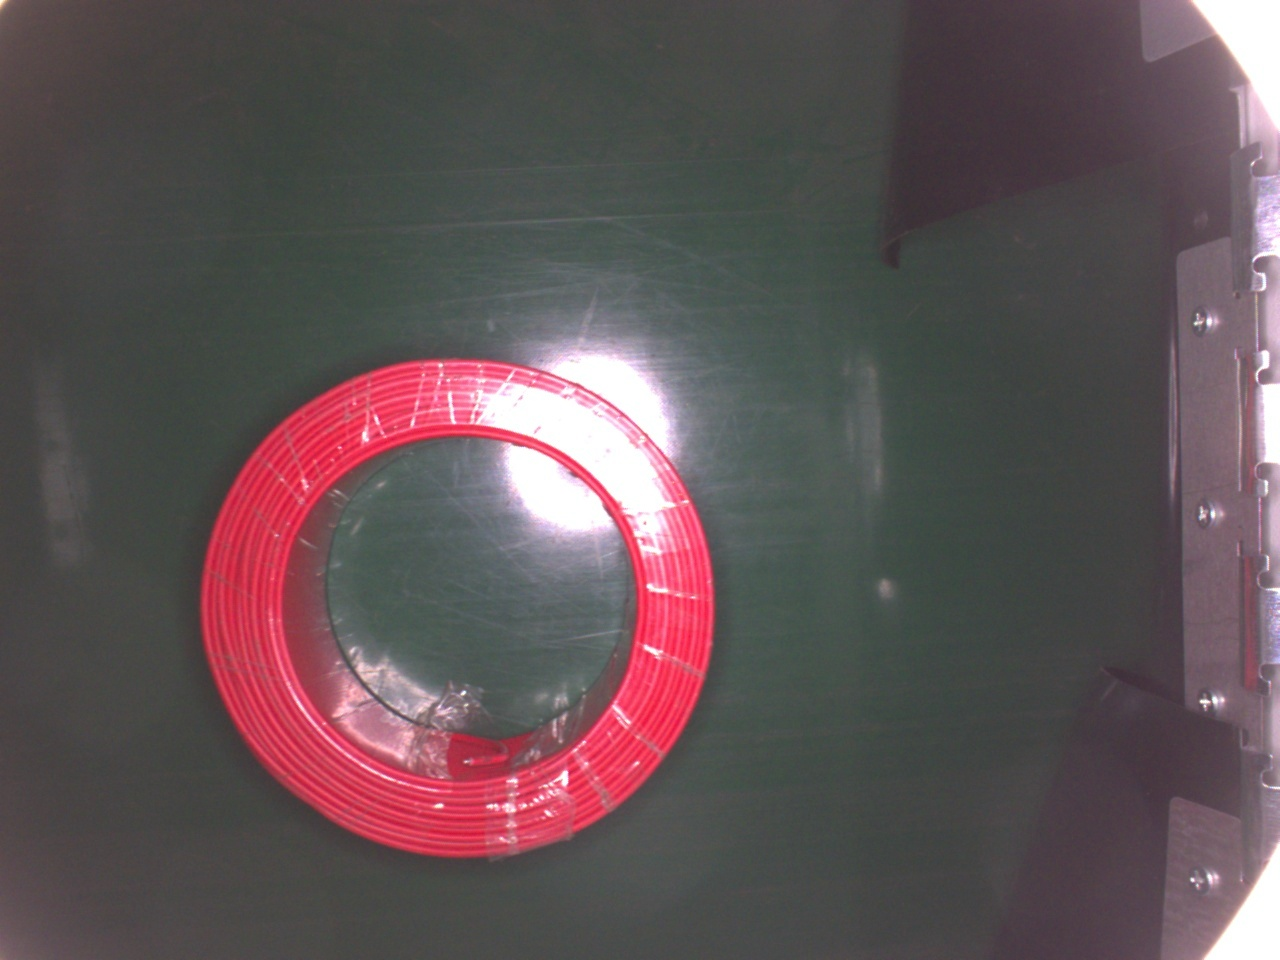red: (197, 356, 719, 865)
